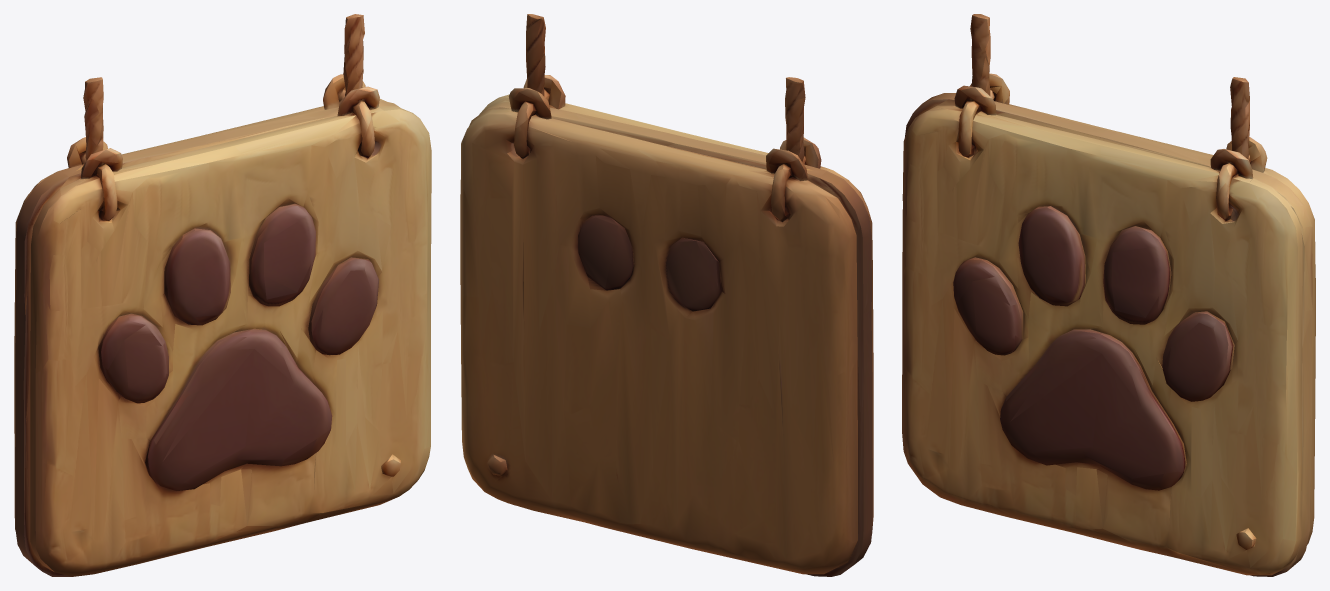
The model's file is garden_sign.glb.
3 views of the same model, side by side, from view 1: azimuth 30°, elevation 25°; view 2: azimuth 150°, elevation 25°; view 3: azimuth 330°, elevation 25° (orthographic).
Parts seen in each view (by area): view 1: tripo_node_15e2d373-9f5b-4ad5-9de7-c27c337bfe1a; view 2: tripo_node_15e2d373-9f5b-4ad5-9de7-c27c337bfe1a; view 3: tripo_node_15e2d373-9f5b-4ad5-9de7-c27c337bfe1a.
Boxes of the visible parts, x1,y1,x2,y2 form: tripo_node_15e2d373-9f5b-4ad5-9de7-c27c337bfe1a: (14, 14, 431, 576); tripo_node_15e2d373-9f5b-4ad5-9de7-c27c337bfe1a: (460, 14, 873, 576); tripo_node_15e2d373-9f5b-4ad5-9de7-c27c337bfe1a: (902, 14, 1315, 576).
Size of the model in its own units: 0.4794 by 0.5598 by 0.08.
Materials: 1 (1 with a texture image).
